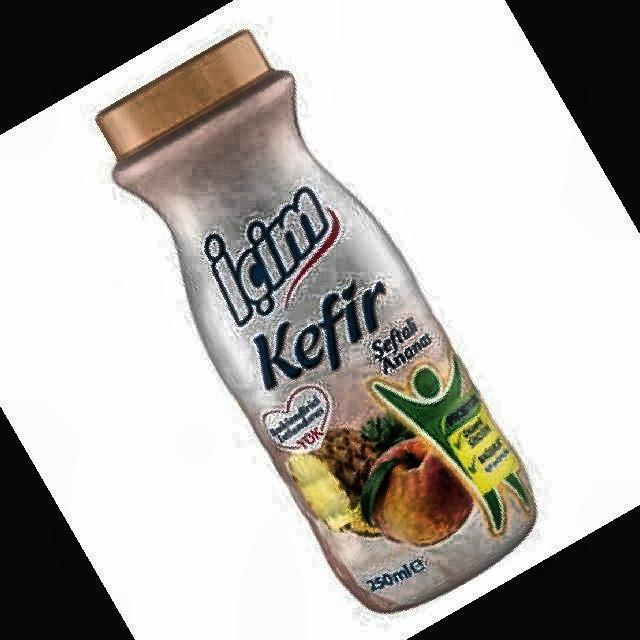plastic: (98, 31, 535, 611)
